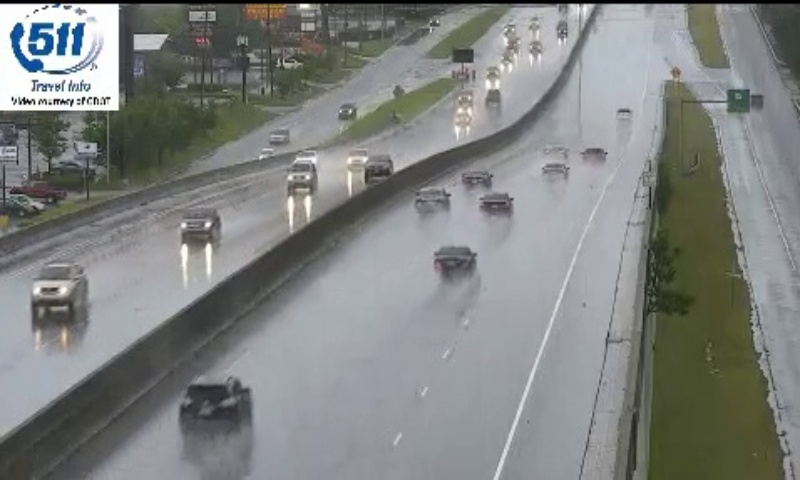car: (180, 375, 252, 440), (433, 245, 475, 280), (414, 186, 450, 215), (479, 192, 513, 214), (461, 169, 490, 190)
